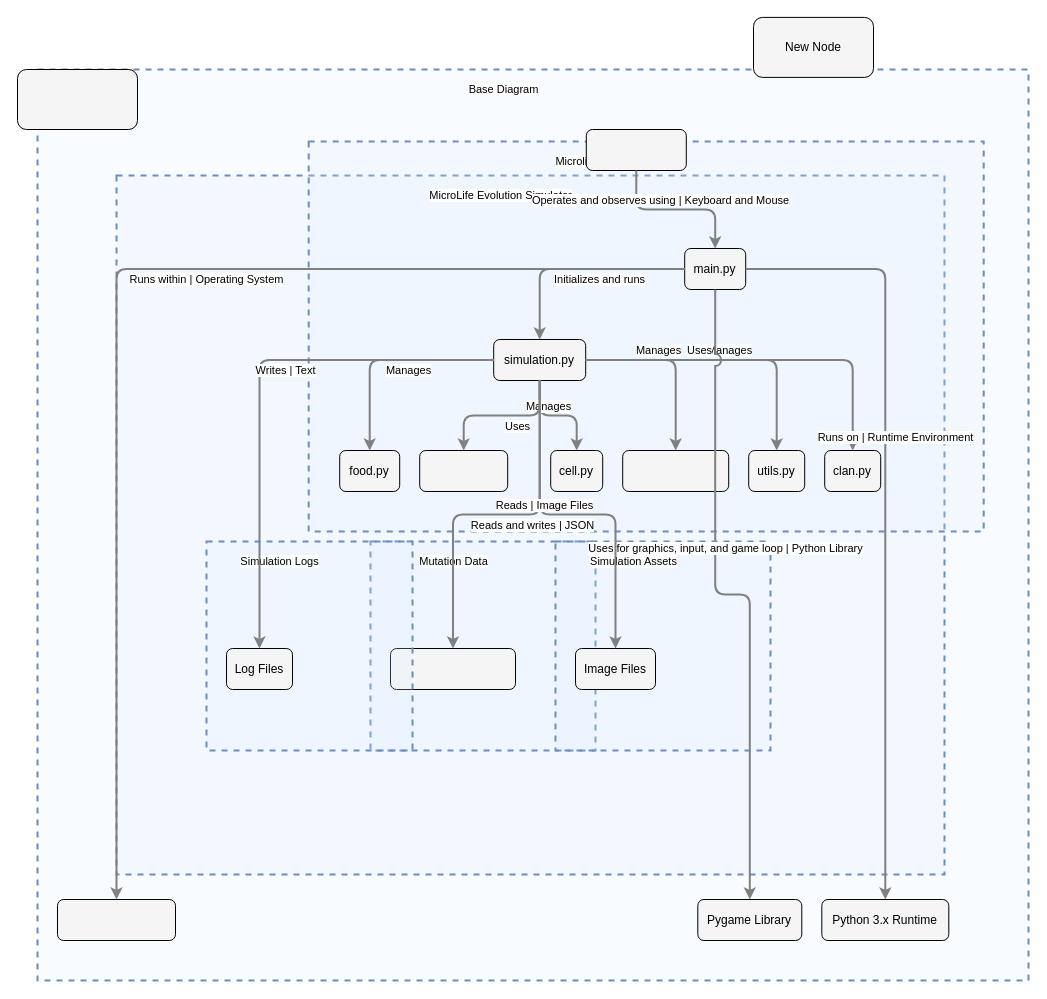
The diagram is 1047 pixels wide and 999 high, and some of its shapes have lost their labels. Here are the shapes that lost their labels. From the top down, the centre of each, then its label:
At (635,149): "Simulator User".
At (463,471): "constants.py".
At (675,471): "environment.py".
At (453,669): "mutation\_data.json".
At (116,919): "Operating System".
